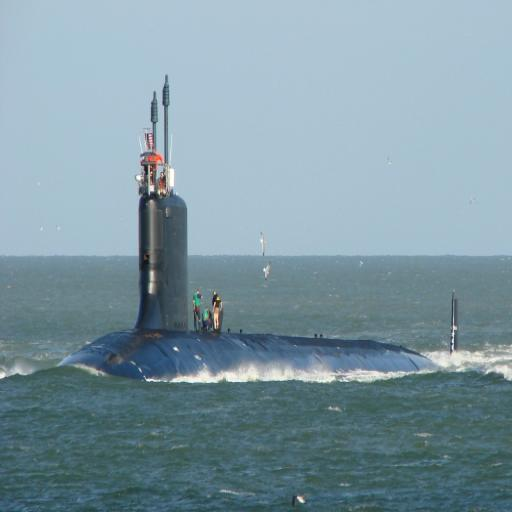submarine: (53, 38, 512, 385)
